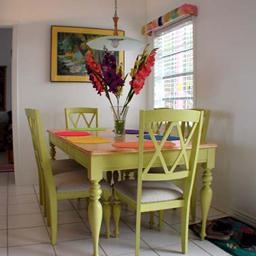Ventana: (151, 34, 198, 115)
